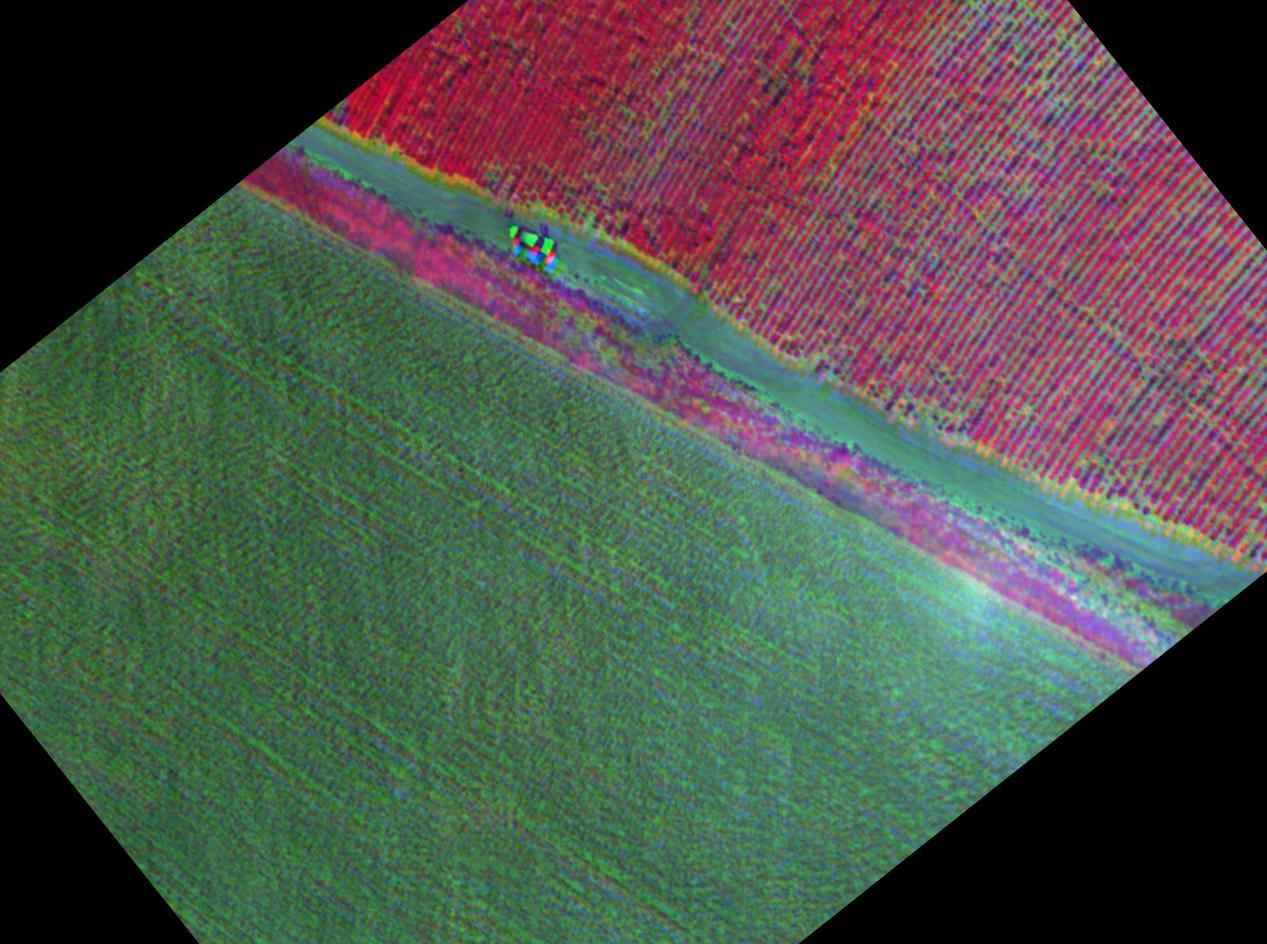dc: (978, 103, 1070, 214), (1068, 430, 1171, 514), (963, 0, 1061, 80), (888, 355, 972, 436), (843, 168, 910, 255), (1101, 88, 1152, 178)
